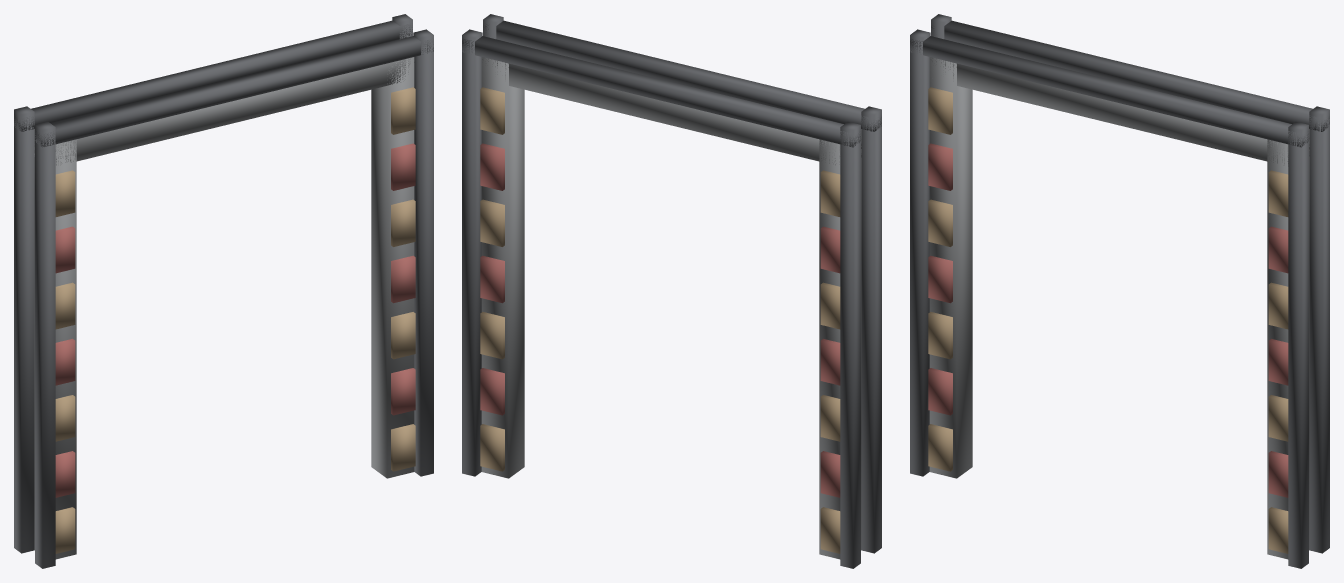
Rendered from doorway_brick_return_w182_h220_d16.glb.
The picture shows the model from 3 angles, left to right: view 1: azimuth 30°, elevation 25°; view 2: azimuth 150°, elevation 25°; view 3: azimuth 330°, elevation 25°; orthographic projection.
Visible parts, largest first — view 1: world; view 2: world; view 3: world.
Part boxes in pixels (<box>): world: <box>14,14,433,568</box>; world: <box>462,14,881,568</box>; world: <box>910,14,1329,568</box>.
Bounding box in the file's own units: 2.29 × 2.46 × 0.2906.
